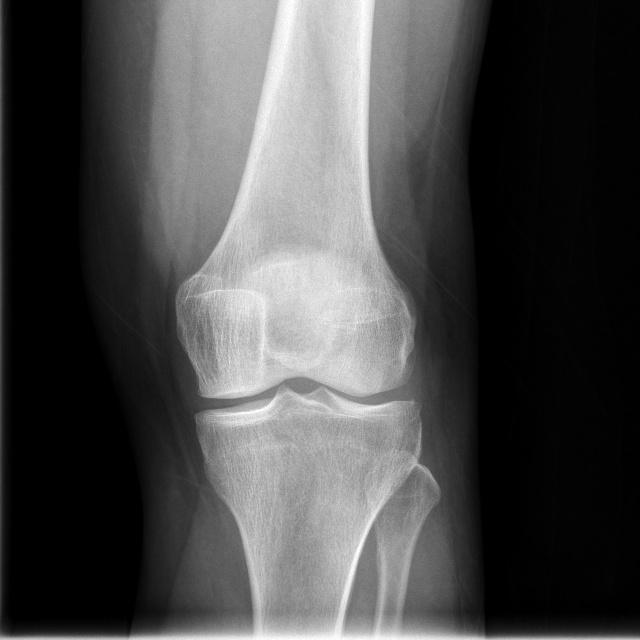Knee: (170, 313, 423, 476)
